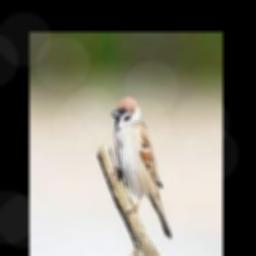Sparrow: (112, 95, 171, 238)
